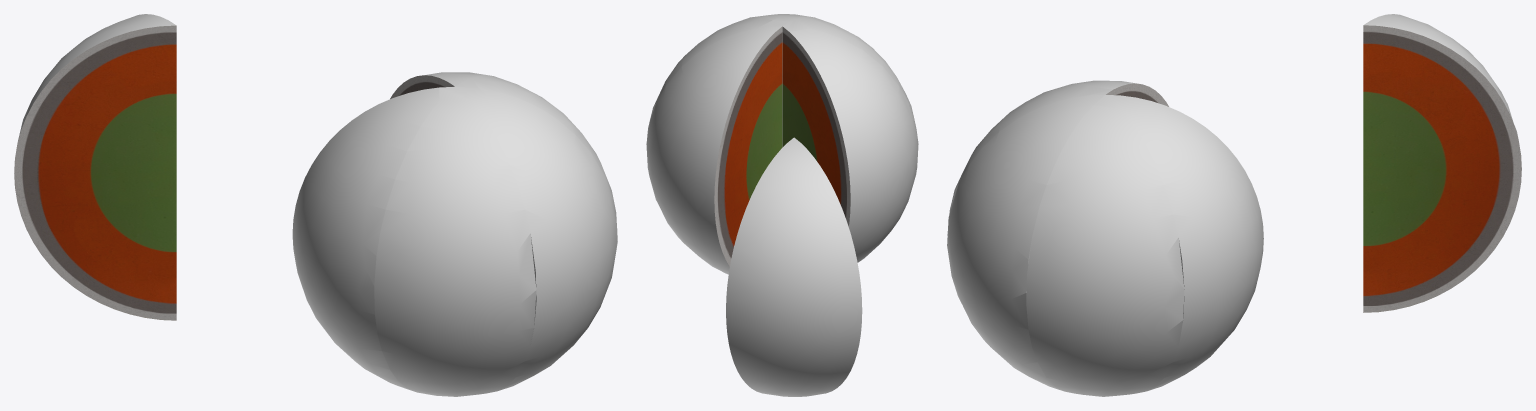
The model's file is HearingBook_r7f-withNormal-05.gltf.
The picture shows the model from 3 angles, left to right: view 1: azimuth 30°, elevation 25°; view 2: azimuth 150°, elevation 25°; view 3: azimuth 270°, elevation 25°; orthographic projection. The views are drawn at different scales.
Visible parts, largest first — view 1: Slice 6-Shiny Shell, Slice 1-Hearing, Slice 1-Shiny Shell, Slice 6-Hearing; view 2: Slice 6-Shiny Shell, Slice 1-Shiny Shell, Slice 6-Hearing; view 3: Slice 6-Shiny Shell, Slice 1-Hearing, Slice 1-Shiny Shell, Slice 6-Hearing.
Boxes of the visible parts, left/top/right/bottom form: Slice 6-Shiny Shell: left=292, top=72, right=617, bottom=396; Slice 1-Hearing: left=14, top=25, right=176, bottom=320; Slice 1-Shiny Shell: left=18, top=14, right=176, bottom=140; Slice 6-Hearing: left=390, top=75, right=454, bottom=98; Slice 6-Shiny Shell: left=646, top=14, right=918, bottom=274; Slice 1-Shiny Shell: left=726, top=137, right=862, bottom=396; Slice 6-Hearing: left=714, top=26, right=850, bottom=266; Slice 6-Shiny Shell: left=947, top=80, right=1263, bottom=396; Slice 1-Hearing: left=1363, top=25, right=1521, bottom=312; Slice 1-Shiny Shell: left=1363, top=14, right=1518, bottom=139; Slice 6-Hearing: left=1106, top=83, right=1168, bottom=106.
Bounding box in the file's own units: 290 × 200 × 362.
Materials: 2 (1 with a texture image).
